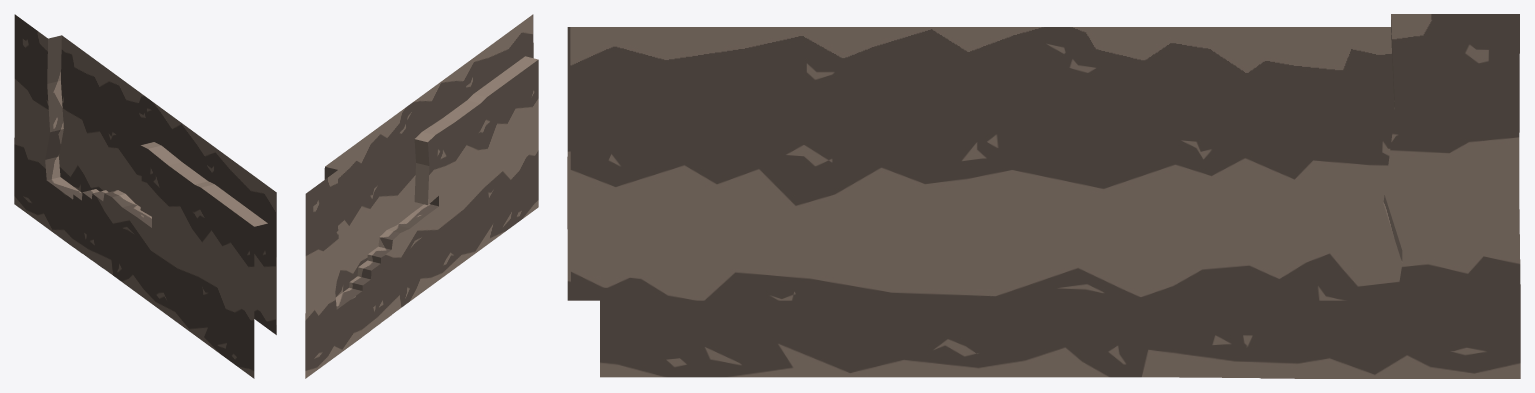
Rendered from Nivel1-2.fbx.
3 renders of one model, left to right at view 1: azimuth 30°, elevation 25°; view 2: azimuth 150°, elevation 25°; view 3: azimuth 270°, elevation 25°, orthographic. The views are drawn at different scales.
Visible parts, largest first — view 1: NivelesQA_mergedObject; view 2: NivelesQA_mergedObject; view 3: NivelesQA_mergedObject.
Part boxes in pixels (box(x1,y1,x2,y2)): NivelesQA_mergedObject: box(14, 14, 276, 378); NivelesQA_mergedObject: box(305, 14, 538, 378); NivelesQA_mergedObject: box(567, 14, 1520, 378).
Size of the model in its own units: 700 by 9263 by 21922.
